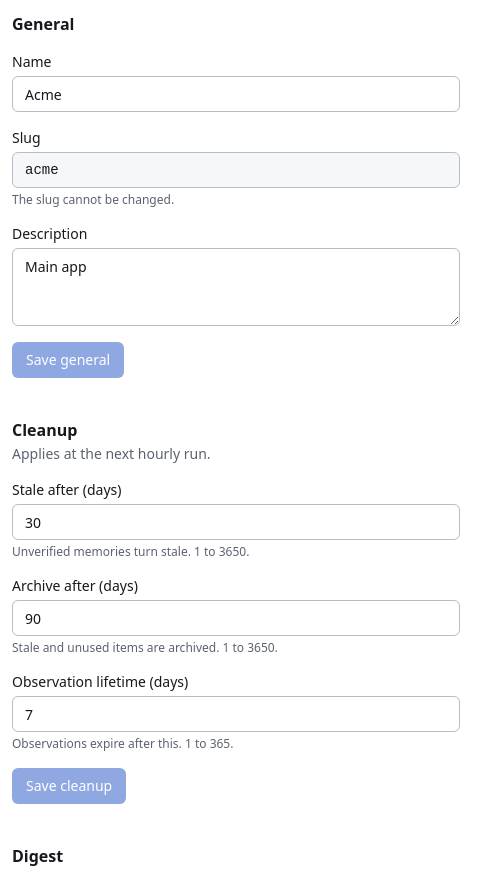
SettingsForm › shows a server failure as a banner
Step 1. Replace the text in the number field labelled "Stale after (days)" with "10" → [236, 522], box x1=12 y1=504 x2=460 y2=540
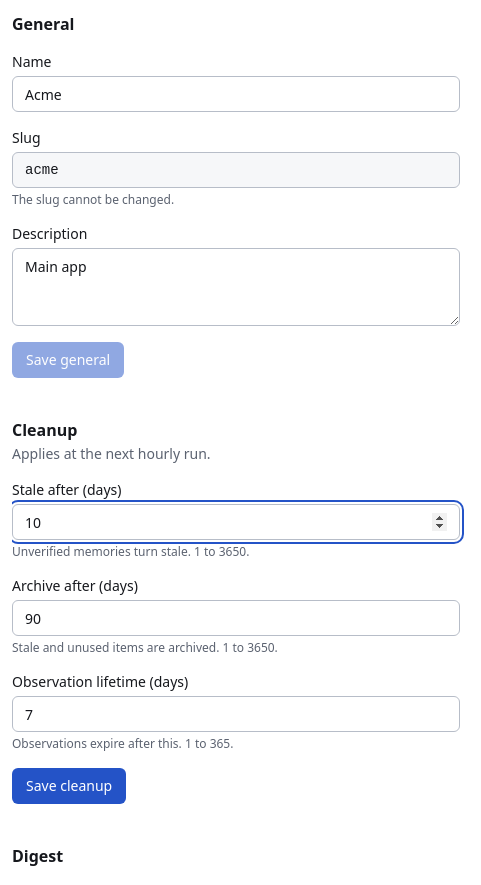
Step 2. Click the button "Save cleanup" → [69, 786], box x1=12 y1=768 x2=126 y2=804
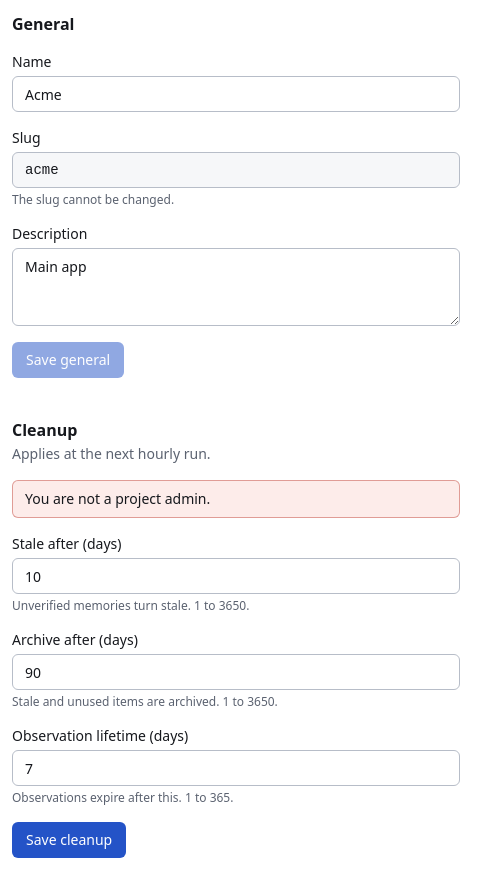
expect the text "You are not a project admin." is shown: met, box x1=25 y1=489 x2=210 y2=508
